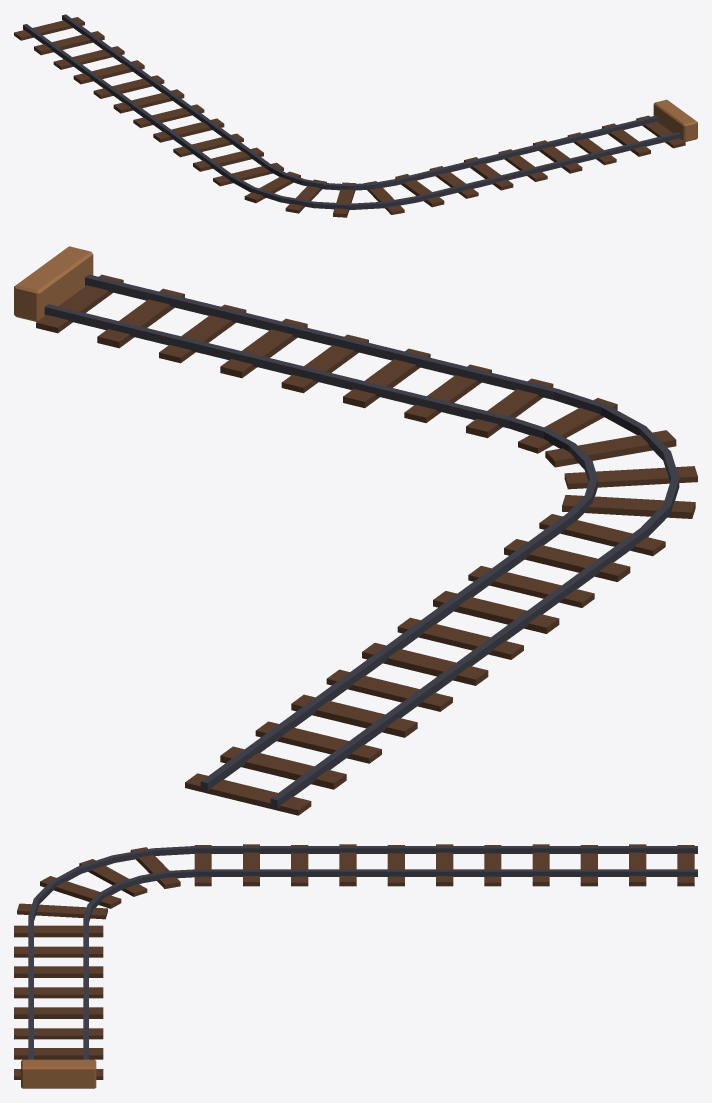
File: Mine_Track6.fbx
The picture shows the model from 3 angles, top to bottom: view 1: azimuth 30°, elevation 25°; view 2: azimuth 150°, elevation 25°; view 3: azimuth 270°, elevation 25°; orthographic projection. The views are drawn at different scales.
Parts seen in each view (by area): view 1: spool.001, iron, timber.001; view 2: spool.001, iron, timber.001; view 3: spool.001, iron, timber.001.
Part boxes in pixels (x1,y1,x2,y2): spool.001: (14,17,685,217); iron: (23,14,680,210); timber.001: (653,99,697,141); spool.001: (36,274,697,815); iron: (44,274,679,808); timber.001: (14,246,93,321); spool.001: (14,844,694,1079); iron: (28,846,697,1059); timber.001: (21,1059,96,1088).
Size of the model in its own units: 16.58 by 0.7 by 19.9.
